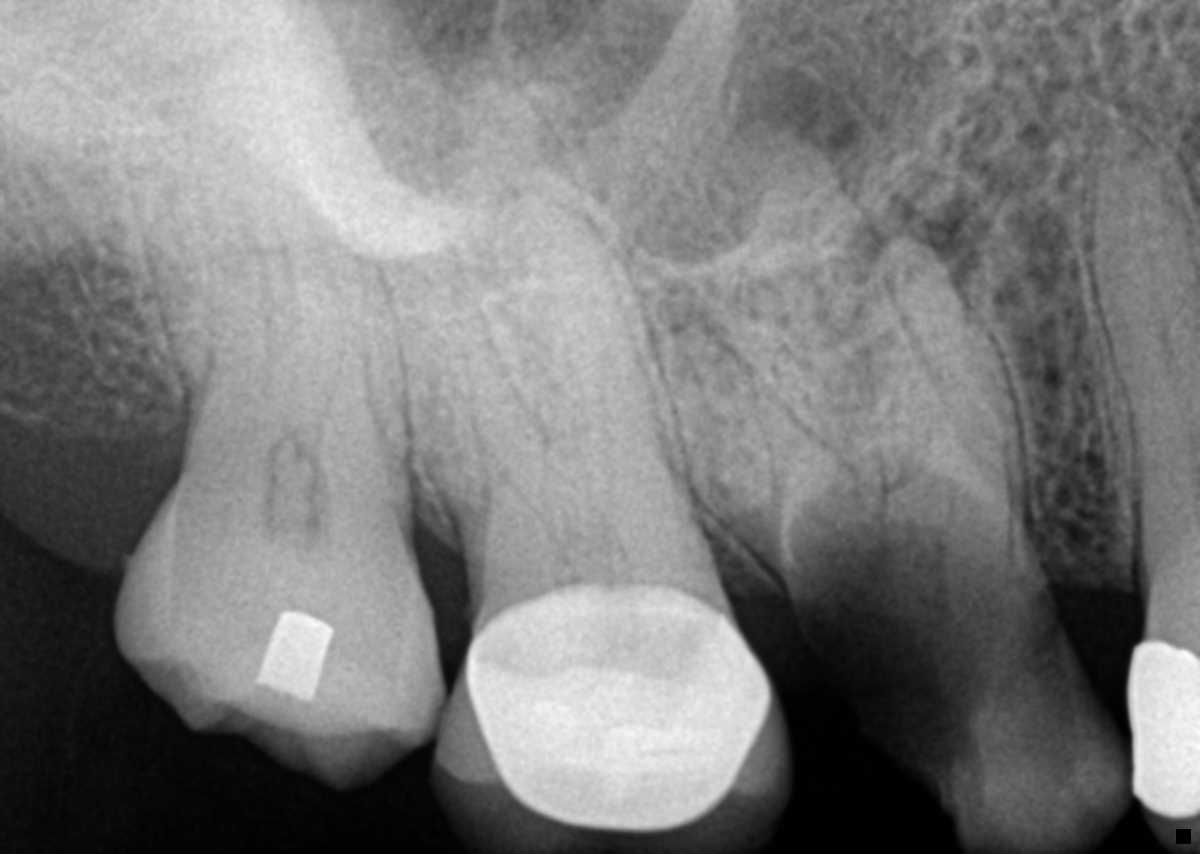Apical Lesion: (845, 162, 988, 291), (717, 53, 865, 164), (617, 271, 718, 359)
Distal Canal: (448, 396, 530, 506)
Distal Root: (367, 198, 544, 539), (636, 327, 845, 570), (129, 115, 285, 419)
Main Canal: (1141, 225, 1200, 413)
Main Root: (1088, 121, 1200, 576)
Mesial Canal: (312, 301, 345, 446)
Mesial Root: (499, 195, 671, 481), (864, 241, 1024, 541), (268, 149, 405, 474)
Palatal Root: (436, 61, 697, 630), (724, 118, 969, 501), (196, 43, 378, 434)
